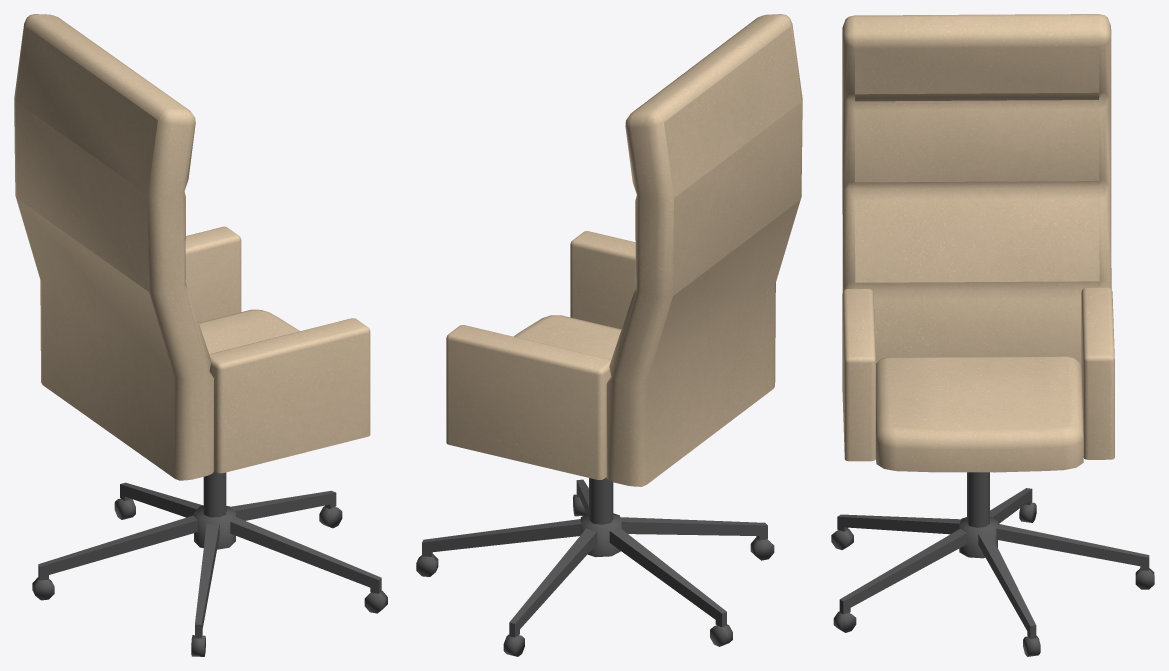
File: FUR0210076.fbx
The picture shows the model from 3 angles, left to right: view 1: azimuth 30°, elevation 25°; view 2: azimuth 150°, elevation 25°; view 3: azimuth 270°, elevation 25°; orthographic projection. The views are drawn at different scales.
Visible parts, largest first — view 1: smFUR0210076; view 2: smFUR0210076; view 3: smFUR0210076.
Part boxes in pixels (x1,y1,x2,y2): smFUR0210076: [14, 14, 387, 656]; smFUR0210076: [416, 14, 802, 656]; smFUR0210076: [831, 14, 1154, 656].
Bounding box in the file's own units: 89.83 × 152 × 85.77.
Materials: 1 (1 with a texture image).
